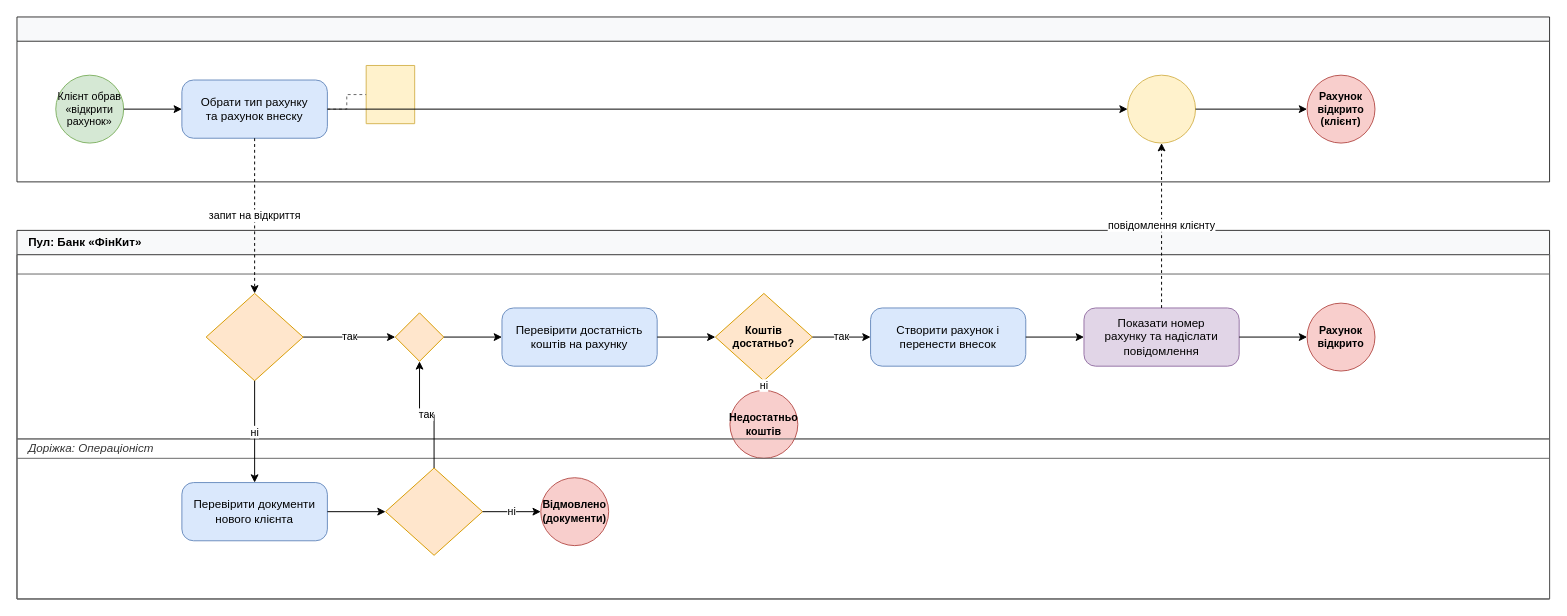
Some shapes in this 1567 by 616 pixel diagram are drawn without their labels. Here are the shapes that lost their labels. From the top down, the box of each, then its label:
(365, 65, 415, 124): Заявка
(16, 16, 1550, 182): Пул: Клієнт
(1127, 74, 1196, 143): Отримати повідомлення і номер
(205, 292, 303, 381): Клієнт ідентифі- кований?
(16, 254, 1550, 439): Доріжка: Система
(385, 467, 483, 555): Документи коректні?
